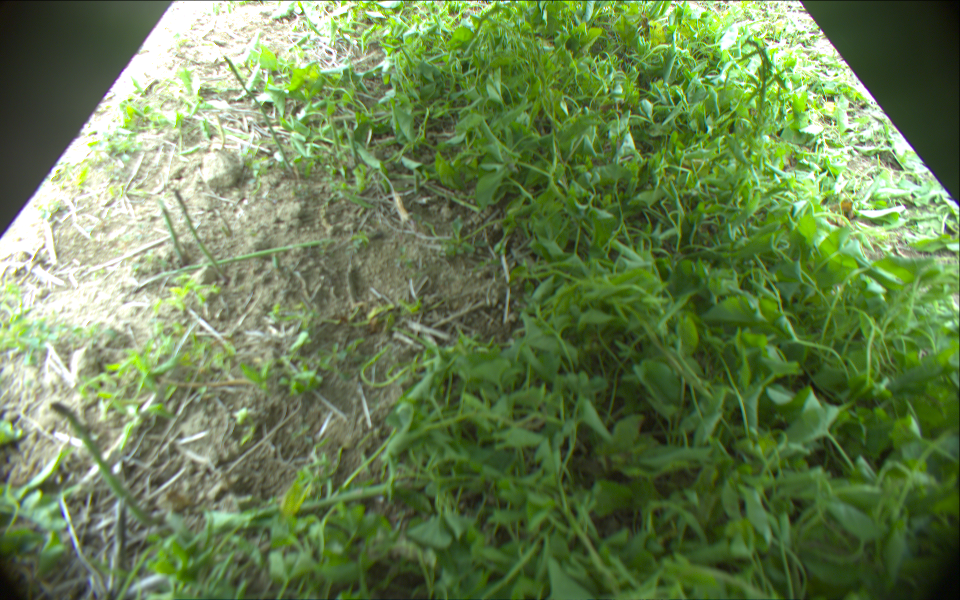aspa: (50, 400, 167, 527), (131, 232, 358, 293), (223, 51, 292, 171), (176, 190, 229, 277), (162, 200, 190, 273), (345, 123, 359, 166), (328, 114, 341, 156)
